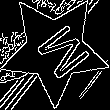M_SW: (22, 16, 87, 83)
